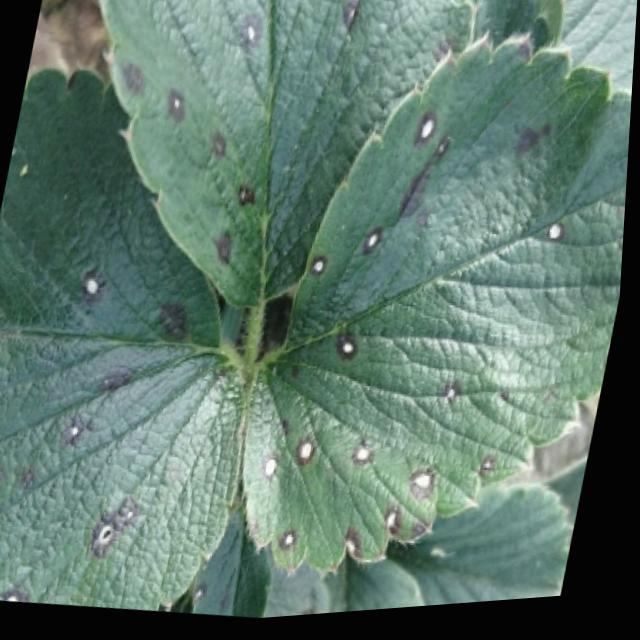Leaf Spot: (243, 42, 634, 579), (0, 67, 249, 614), (96, 0, 476, 314), (197, 492, 279, 623)
